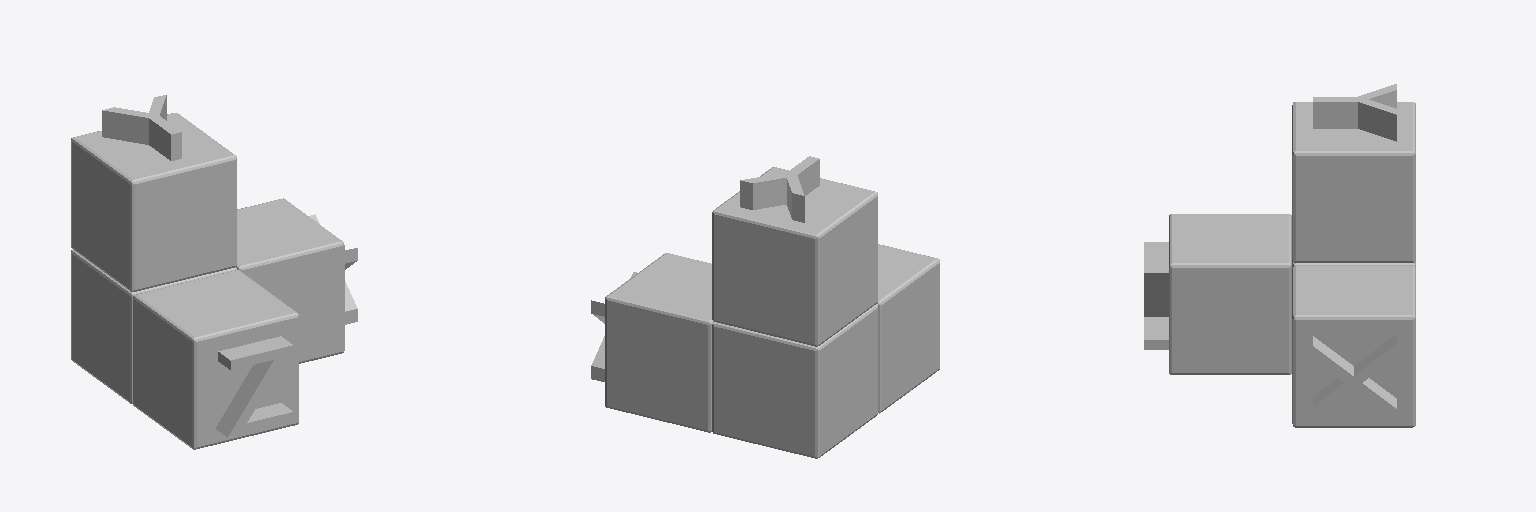
Rendered from XYZ_Blocks.obj.
3 views of the same model, side by side, from view 1: azimuth 30°, elevation 25°; view 2: azimuth 150°, elevation 25°; view 3: azimuth 270°, elevation 25° (orthographic).
Parts seen in each view (by area): view 1: cubey, cubez, cubex, cube_center, textz, texty, textx; view 2: cubey, cube_center, cubex, cubez, texty, textx; view 3: cubez, cubey, cubex, textx, texty, textz.
Part boxes in pixels (left/top/right/bottom): cubey: left=71, top=113, right=236, bottom=291; cubez: left=133, top=270, right=298, bottom=449; cubex: left=236, top=198, right=344, bottom=363; cube_center: left=71, top=250, right=236, bottom=403; textz: left=215, top=336, right=293, bottom=437; texty: left=102, top=95, right=181, bottom=160; textx: left=309, top=214, right=357, bottom=324; cubey: left=712, top=167, right=877, bottom=346; cube_center: left=712, top=304, right=877, bottom=458; cubex: left=605, top=253, right=713, bottom=432; cubez: left=877, top=244, right=939, bottom=413; texty: left=740, top=156, right=819, bottom=222; textx: left=591, top=272, right=636, bottom=381; cubez: left=1169, top=214, right=1291, bottom=374; cubey: left=1292, top=102, right=1415, bottom=262; cubex: left=1292, top=266, right=1415, bottom=427; textx: left=1313, top=334, right=1396, bottom=421; texty: left=1313, top=84, right=1396, bottom=141; textz: left=1144, top=242, right=1168, bottom=349.
Size of the model in its own units: 2.17 by 2.21 by 2.16.